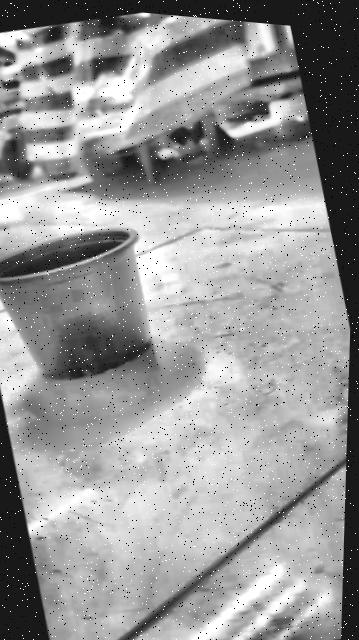pot: (0, 214, 166, 402)
